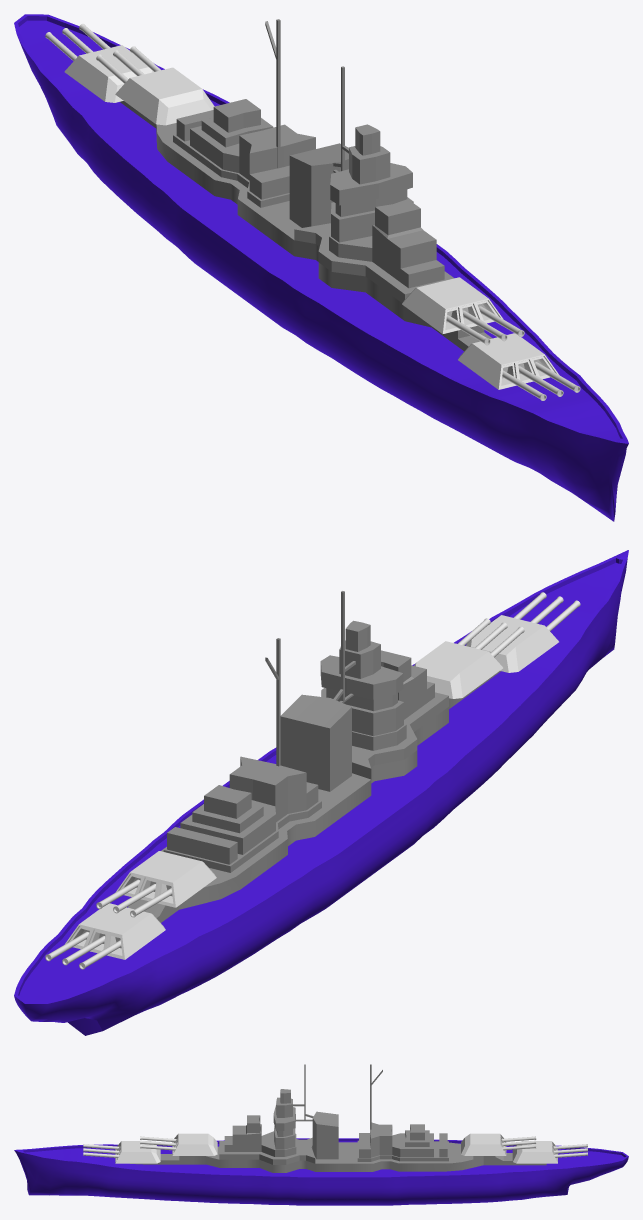
The model's file is Battleship_TurretsFixed.FBX.
3 renders of one model, top to bottom at view 1: azimuth 30°, elevation 25°; view 2: azimuth 150°, elevation 25°; view 3: azimuth 270°, elevation 25°, orthographic. The views are drawn at different scales.
Visible parts, largest first — view 1: Boat_Base, Bridge, Turret_Head, Turret_Head002, Turret_Head003, Turret_Head001, BridgePole; view 2: Boat_Base, Bridge, Turret_Head, Turret_Head002, Turret_Head001, Turret_Head003, BridgePole; view 3: Boat_Base, Bridge, Turret_Head002, Turret_Head, Turret_Head003, Turret_Head001.
Part boxes in pixels (box(x1,y1,x2,y2)): Boat_Base: box(14, 14, 628, 521); Bridge: box(120, 99, 492, 351); Turret_Head: box(115, 67, 214, 125); Turret_Head002: box(402, 277, 502, 333); Turret_Head003: box(458, 333, 558, 389); Turret_Head001: box(64, 45, 153, 102); BridgePole: box(265, 19, 280, 168); Boat_Base: box(14, 550, 628, 1035); Bridge: box(128, 620, 500, 922); Turret_Head: box(115, 851, 216, 907); Turret_Head002: box(414, 641, 502, 698); Turret_Head001: box(65, 903, 165, 959); Turret_Head003: box(466, 615, 558, 672); BridgePole: box(265, 638, 280, 766); Boat_Base: box(14, 1138, 628, 1205); Bridge: box(130, 1089, 546, 1172); Turret_Head002: box(172, 1133, 217, 1155); Turret_Head: box(461, 1133, 506, 1155); Turret_Head003: box(115, 1141, 160, 1163); Turret_Head001: box(512, 1141, 557, 1163).
Bounding box in the file's own units: 1472 × 2290 × 9635.
